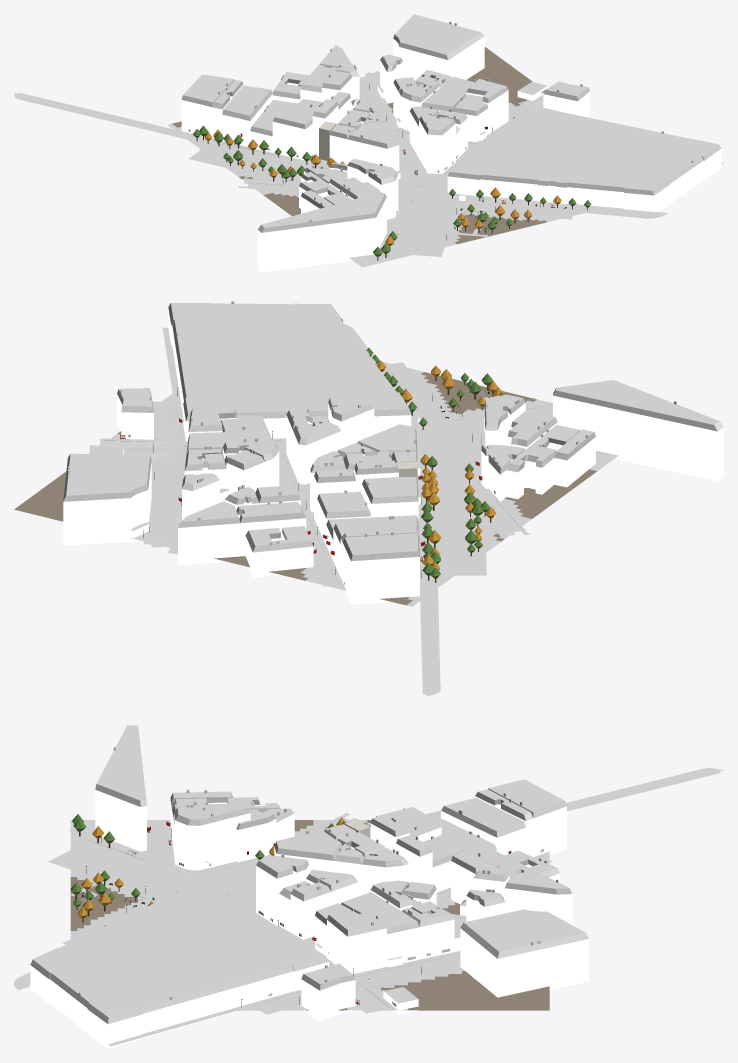
File: zone_A3.glb
3 views of the same model, one above another, from view 1: azimuth 30°, elevation 25°; view 2: azimuth 150°, elevation 25°; view 3: azimuth 270°, elevation 25° (orthographic). The views are drawn at different scales.
Visible parts, largest first — view 1: zone_A3_batiments, zone_A3_sol_NOCOL, zone_A3_terrain, zone_A3_decor_NOCOL; view 2: zone_A3_batiments, zone_A3_sol_NOCOL, zone_A3_terrain, zone_A3_decor_NOCOL; view 3: zone_A3_batiments, zone_A3_sol_NOCOL, zone_A3_terrain, zone_A3_decor_NOCOL.
Boxes of the visible parts, bbox=[...] form: zone_A3_batiments: bbox=[181, 14, 721, 272]; zone_A3_sol_NOCOL: bbox=[14, 71, 723, 265]; zone_A3_terrain: bbox=[167, 47, 584, 267]; zone_A3_decor_NOCOL: bbox=[193, 83, 591, 260]; zone_A3_batiments: bbox=[63, 301, 723, 604]; zone_A3_sol_NOCOL: bbox=[100, 324, 615, 696]; zone_A3_terrain: bbox=[14, 361, 618, 606]; zone_A3_decor_NOCOL: bbox=[143, 347, 534, 582]; zone_A3_batiments: bbox=[30, 725, 588, 1048]; zone_A3_sol_NOCOL: bbox=[14, 768, 723, 1046]; zone_A3_terrain: bbox=[70, 820, 549, 1010]; zone_A3_decor_NOCOL: bbox=[70, 808, 421, 1006].
Bounding box in the file's own units: 293 × 29.3 × 316.
